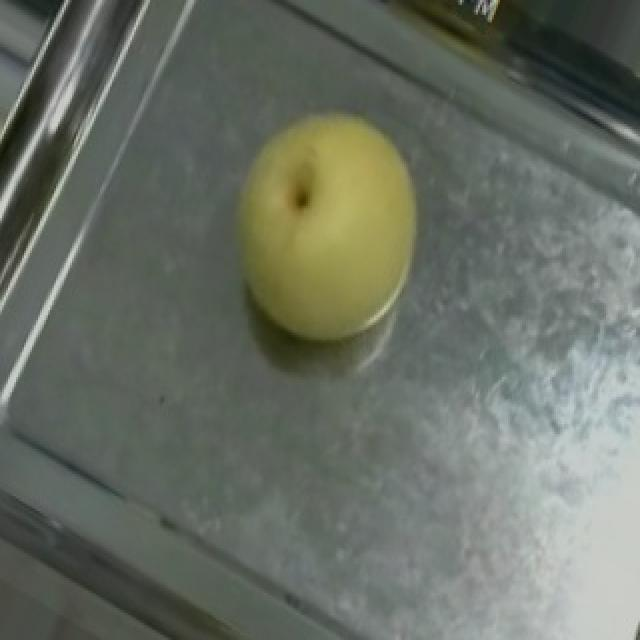Fruit: (184, 72, 468, 382)
